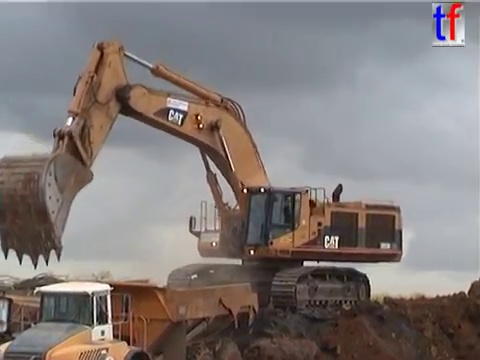excavator: (1, 36, 407, 325)
truck: (1, 276, 262, 360)
